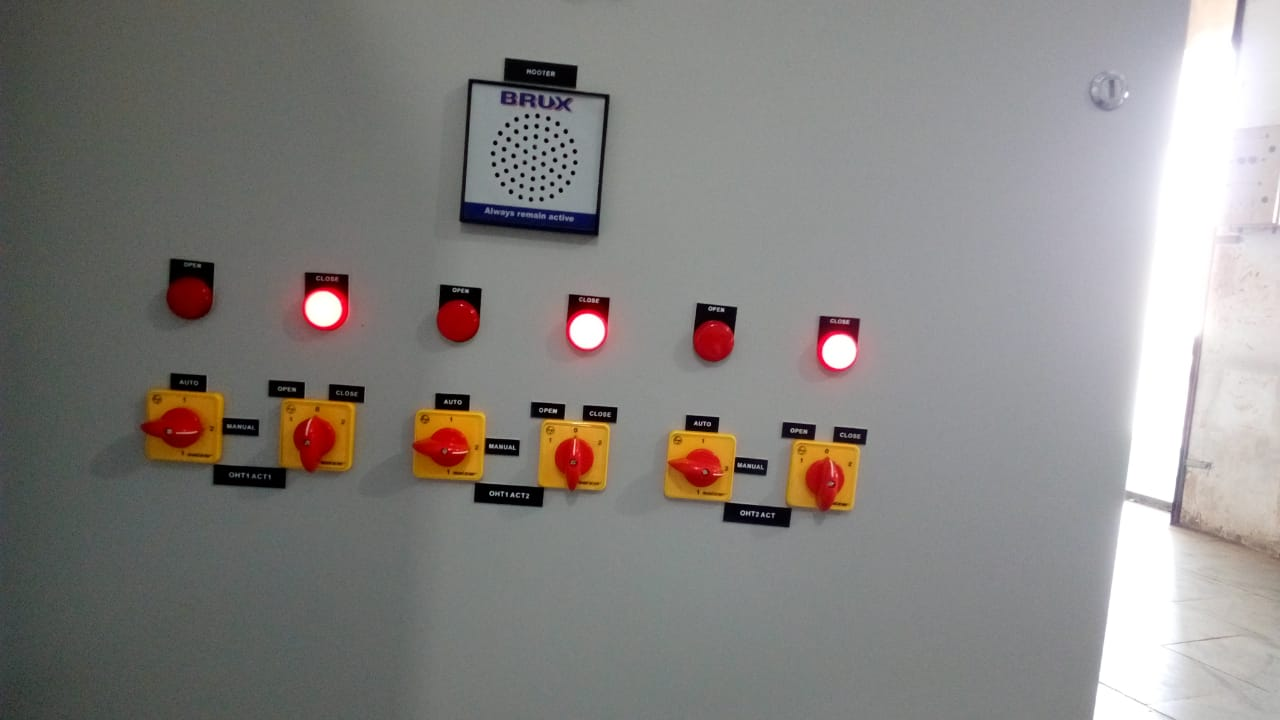Red_Led_Off: (153, 265, 222, 327), (684, 312, 744, 370), (429, 292, 489, 348)
Red_Led_On: (292, 275, 356, 337), (808, 321, 870, 379), (557, 303, 617, 362)
